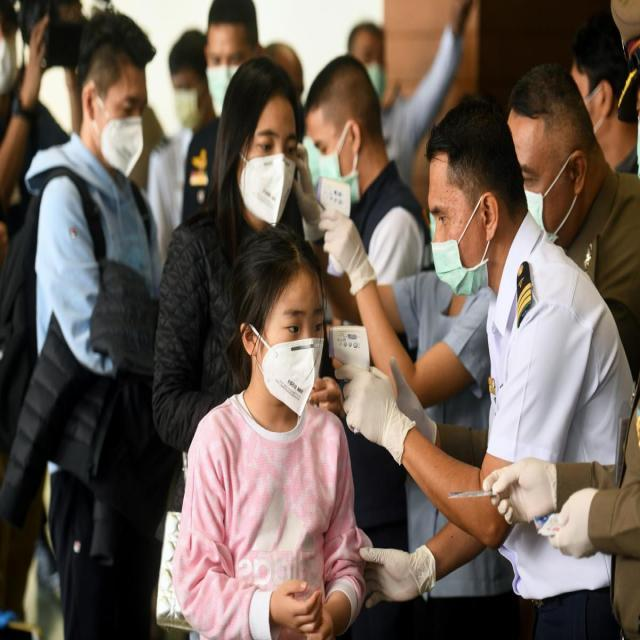face: (427, 86, 524, 310), (504, 58, 601, 254), (243, 218, 333, 422), (304, 45, 387, 208), (230, 50, 300, 235), (76, 40, 151, 179), (200, 2, 262, 126), (571, 64, 619, 149), (169, 46, 201, 126), (353, 22, 386, 94)
